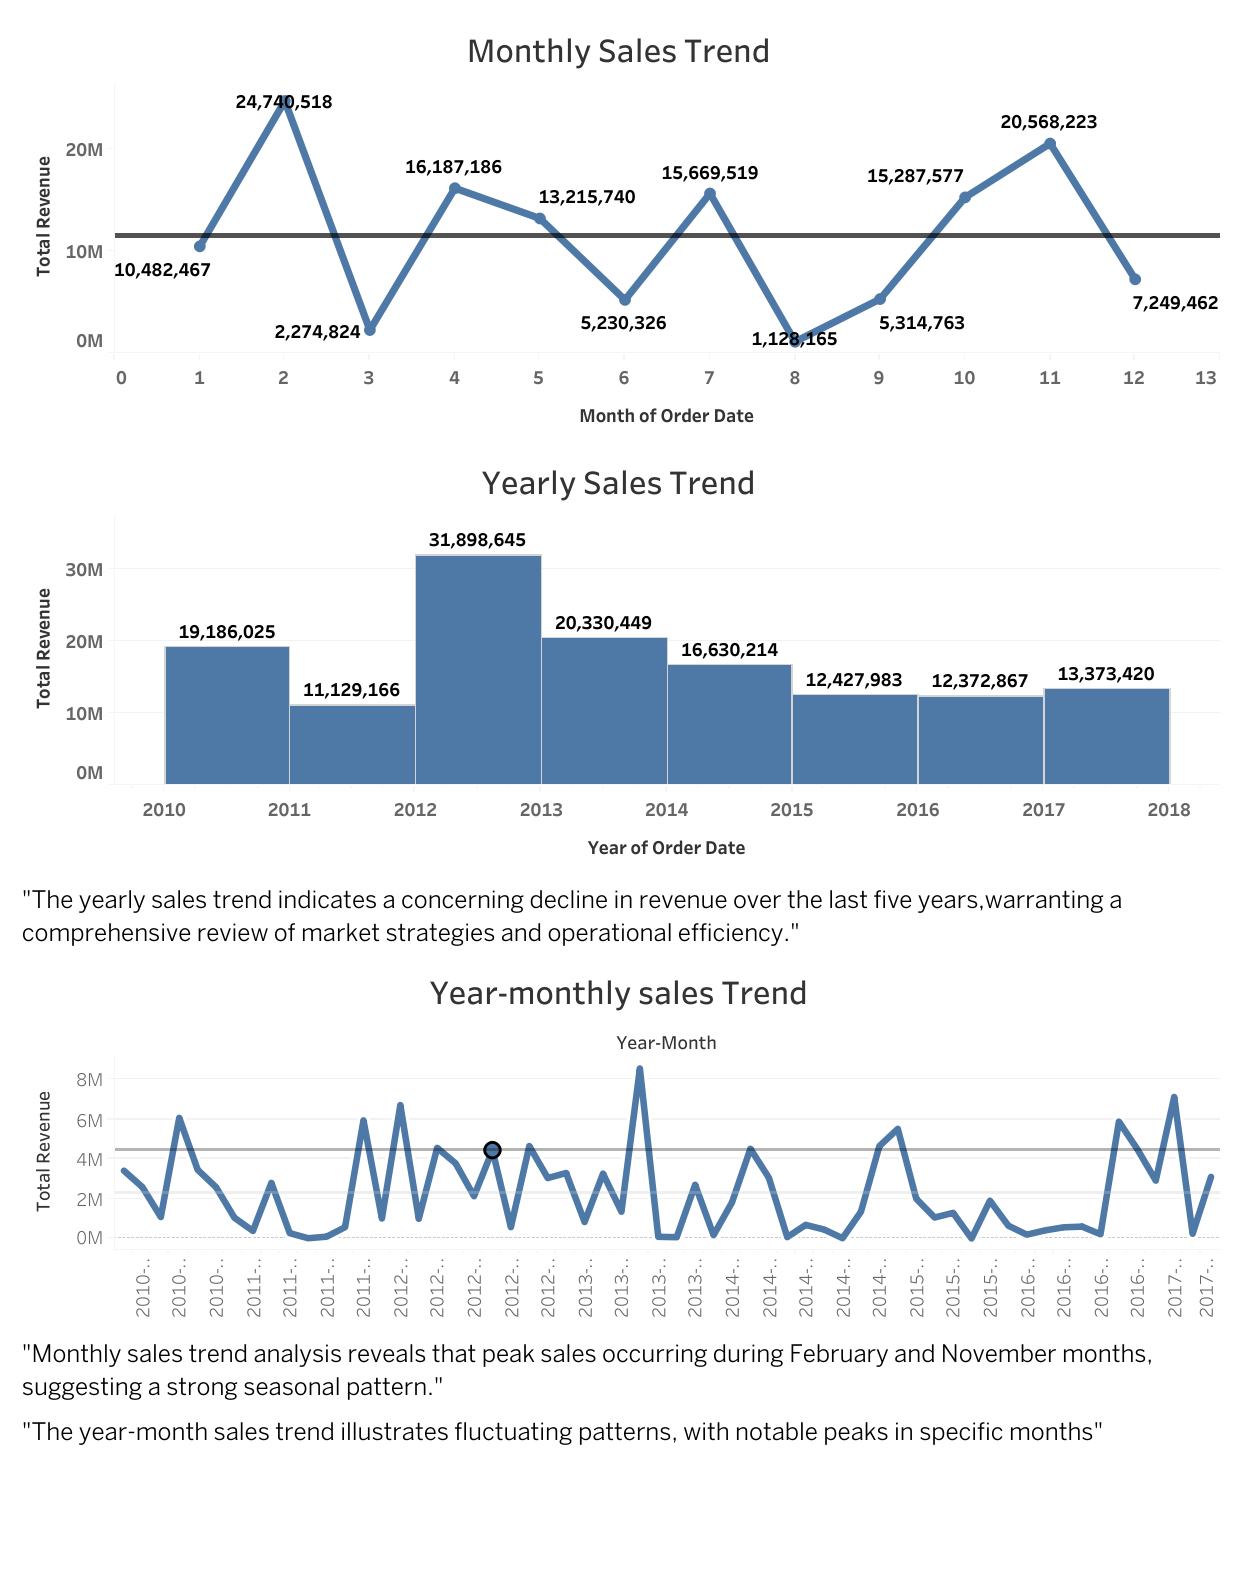

Layout of this report page (visuals, bound fields, positions):
{"tool":"tableau","page":{"name":"Dashboard 1","canvas":[1000,1000],"units":"permille","ordinal":0},"visuals":[{"type":"worksheet","title":"Monthly Saes Trend","mark":"Line","rows":["Total Revenue"],"cols":["Order Date"],"box":[5,9.9,458.1,859.6]},{"type":"worksheet","title":"Yearly Sales Trend","mark":"Bar","rows":["Total Revenue"],"cols":["Order Date"],"box":[463,9.9,532,508.5]},{"type":"text","box":[463,518.4,532,80.7]},{"type":"worksheet","title":"Year-monthly sales","mark":"Line","rows":["Total Revenue"],"cols":["Year-Month"],"box":[463,599.1,532,314]},{"type":"text","box":[5,869.5,458.1,120.5]},{"type":"text","box":[463,913.1,532,77]}]}

Visuals, with their boxes on the dashboard's canvas, which has no fixed pixel size, in thousandths of its width and height (x1, y1, x2, y2). These are canvas units, not pixel positions in the 1236x1574 screenshot, which may show the page scaled, cropped or inside an application window:
"Monthly Saes Trend" worksheet (Line marks): 5,10,463,870
"Yearly Sales Trend" worksheet (Bar marks): 463,10,995,518
text: 463,518,995,599
"Year-monthly sales" worksheet (Line marks): 463,599,995,913
text: 5,870,463,990
text: 463,913,995,990
